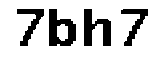7: (11, 4, 45, 48), (117, 5, 151, 49)
b: (46, 5, 80, 51)
h: (82, 5, 113, 52)
